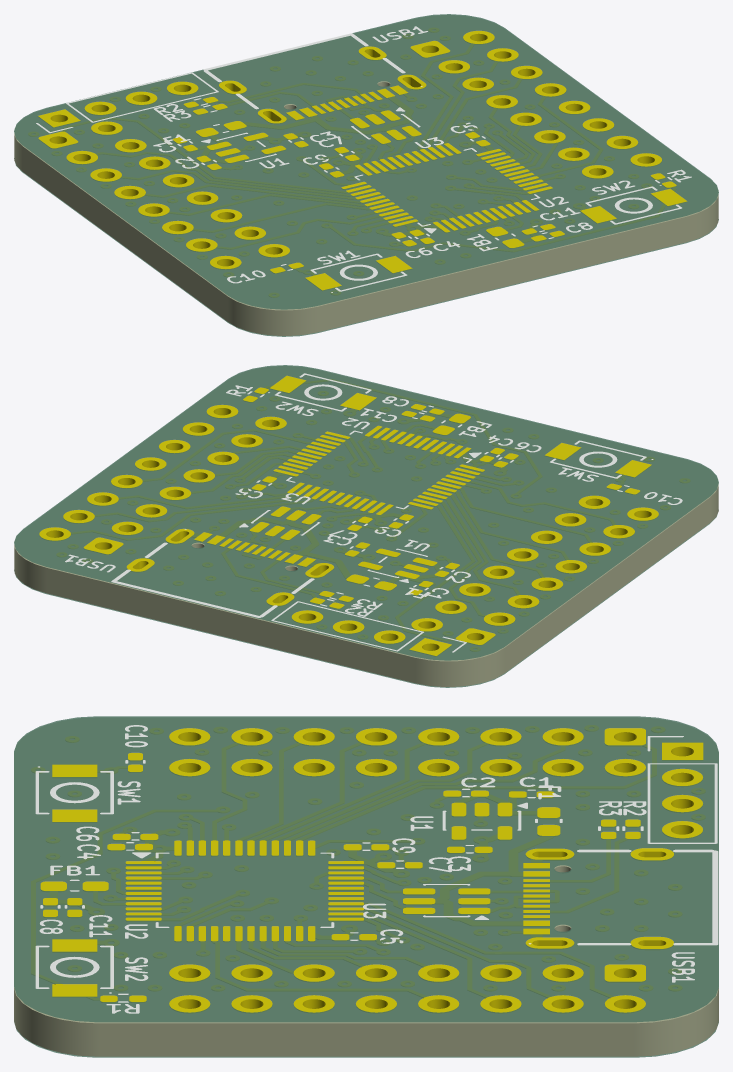
File: mcu_board.glb
3 renders of one model, top to bottom at view 1: azimuth 30°, elevation 25°; view 2: azimuth 150°, elevation 25°; view 3: azimuth 270°, elevation 25°, orthographic. The views are drawn at different scales.
Visible parts, largest first — view 1: =>[0:1:1:7], =>[0:1:1:9], =>[0:1:1:3], =>[0:1:1:2], =>[0:1:1:5], =>[0:1:1:8]; view 2: =>[0:1:1:7], =>[0:1:1:9], =>[0:1:1:3], =>[0:1:1:2], =>[0:1:1:5], =>[0:1:1:8]; view 3: =>[0:1:1:7], =>[0:1:1:9], =>[0:1:1:3], =>[0:1:1:2], =>[0:1:1:5], =>[0:1:1:8].
Part boxes in pixels (x1,y1,x2,y2): =>[0:1:1:7]: [14, 14, 718, 309]; =>[0:1:1:9]: [14, 15, 718, 335]; =>[0:1:1:3]: [38, 31, 687, 290]; =>[0:1:1:2]: [28, 28, 675, 297]; =>[0:1:1:5]: [36, 26, 691, 292]; =>[0:1:1:8]: [14, 158, 718, 336]; =>[0:1:1:7]: [14, 365, 718, 660]; =>[0:1:1:9]: [14, 366, 718, 686]; =>[0:1:1:3]: [39, 376, 658, 656]; =>[0:1:1:2]: [57, 379, 689, 651]; =>[0:1:1:5]: [65, 373, 682, 652]; =>[0:1:1:8]: [14, 510, 718, 687]; =>[0:1:1:7]: [14, 716, 718, 1022]; =>[0:1:1:9]: [14, 718, 718, 1056]; =>[0:1:1:3]: [40, 728, 703, 1012]; =>[0:1:1:2]: [31, 725, 704, 999]; =>[0:1:1:5]: [35, 725, 718, 1013]; =>[0:1:1:8]: [14, 1021, 718, 1057].
Bounding box in the file's own units: 0.0298 × 0.00166 × 0.029.
